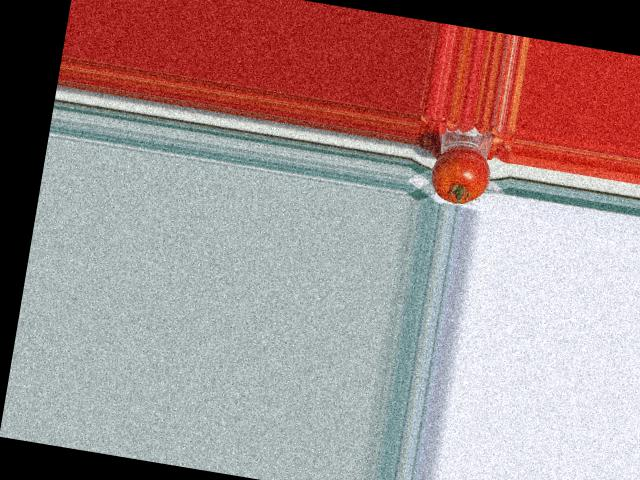tomato: (427, 143, 495, 208)
